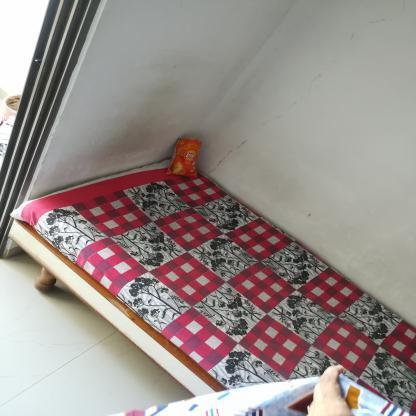hot_and_sweet: (164, 136, 214, 187)
